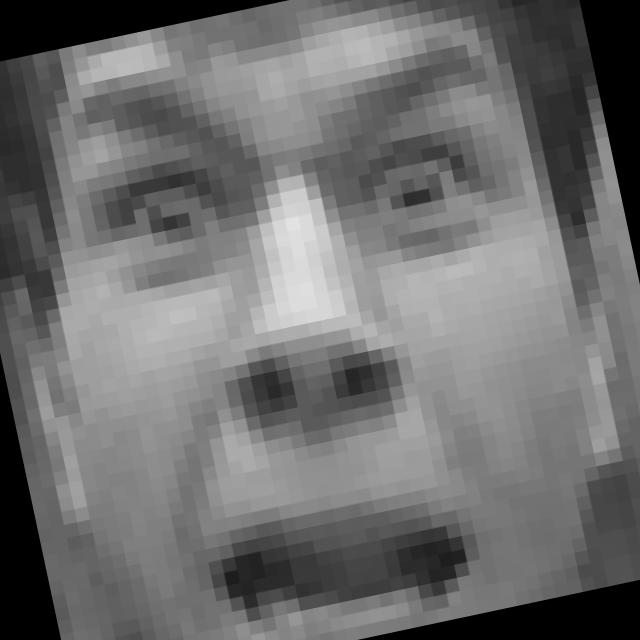fear: (56, 5, 615, 640)
